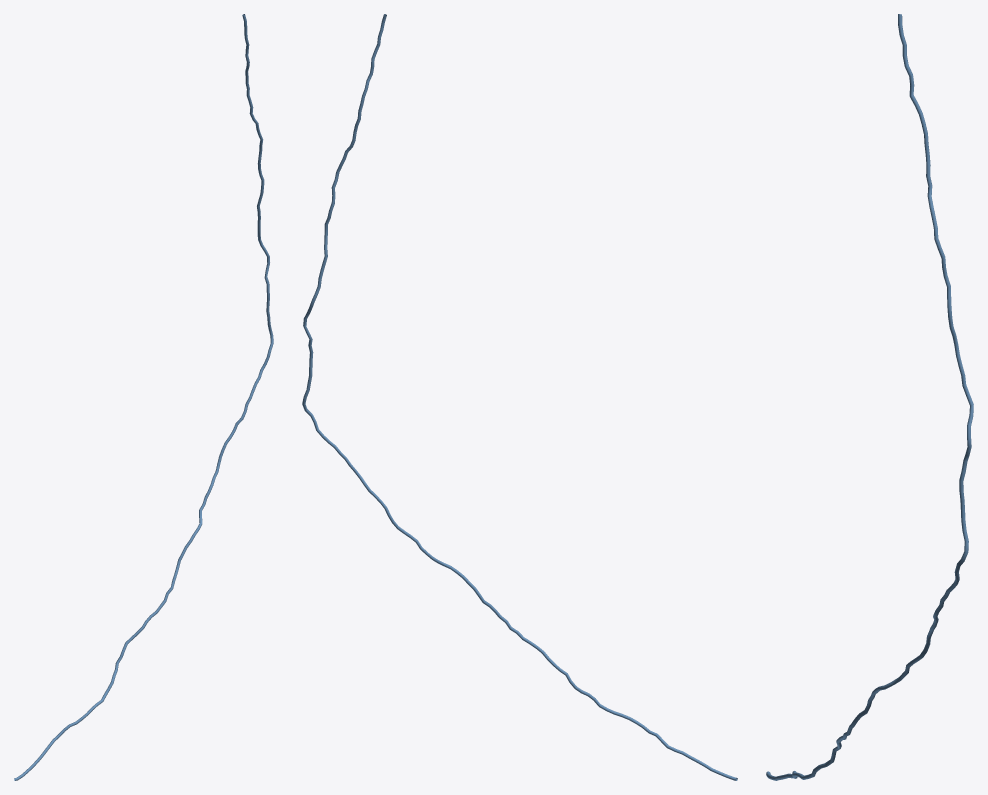
The model's file is sweep124.fbx.
3 views of the same model, side by side, from view 1: azimuth 30°, elevation 25°; view 2: azimuth 150°, elevation 25°; view 3: azimuth 270°, elevation 25° (orthographic). The views are drawn at different scales.
Parts seen in each view (by area): view 1: sweep124; view 2: sweep124; view 3: sweep124.
Part boxes in pixels (<box>): sweep124: <box>14,14,273,780</box>; sweep124: <box>302,14,737,780</box>; sweep124: <box>766,14,973,780</box>.
Size of the model in its own units: 2.48 by 4.81 by 0.9493.
